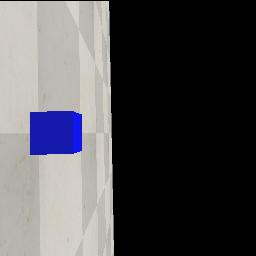box: (30, 111, 82, 155)
